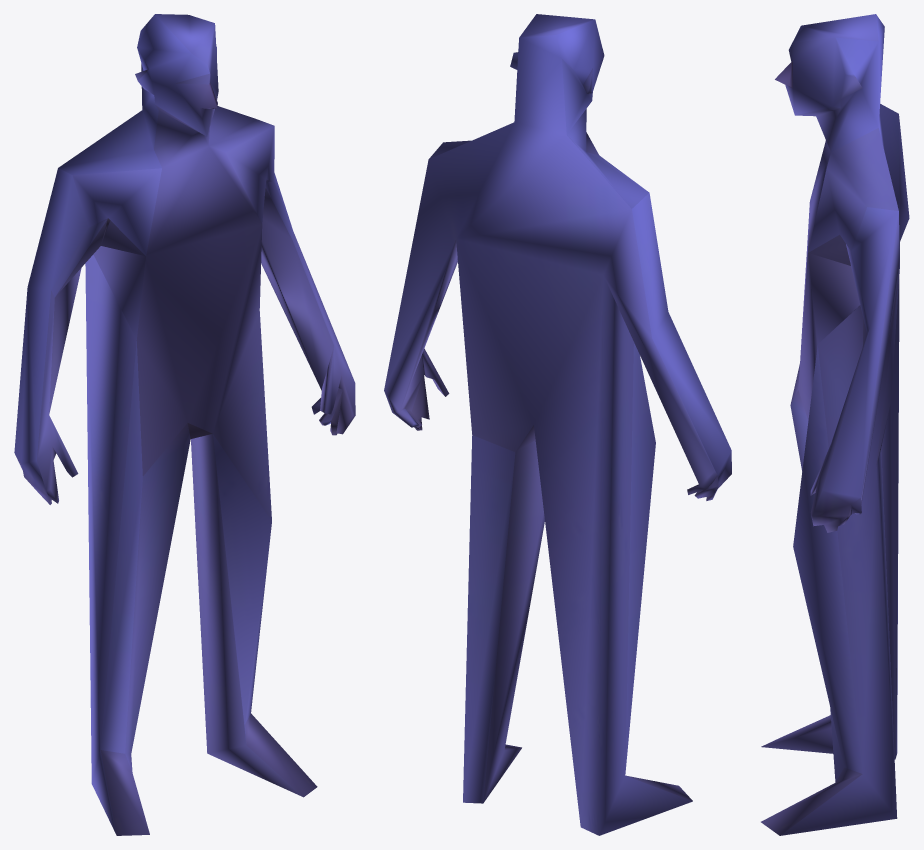
The model's file is model.progressive.glb.
3 views of the same model, side by side, from view 1: azimuth 30°, elevation 25°; view 2: azimuth 150°, elevation 25°; view 3: azimuth 270°, elevation 25° (orthographic).
Visible parts, largest first — view 1: material; view 2: material; view 3: material.
Boxes of the visible parts, x1,y1,x2,y2 form: material: (14, 14, 355, 835); material: (384, 14, 731, 835); material: (761, 14, 909, 835).
Size of the model in its own units: 0.8299 by 1.87 by 0.3299.
Materials: 1 (1 with a texture image).
